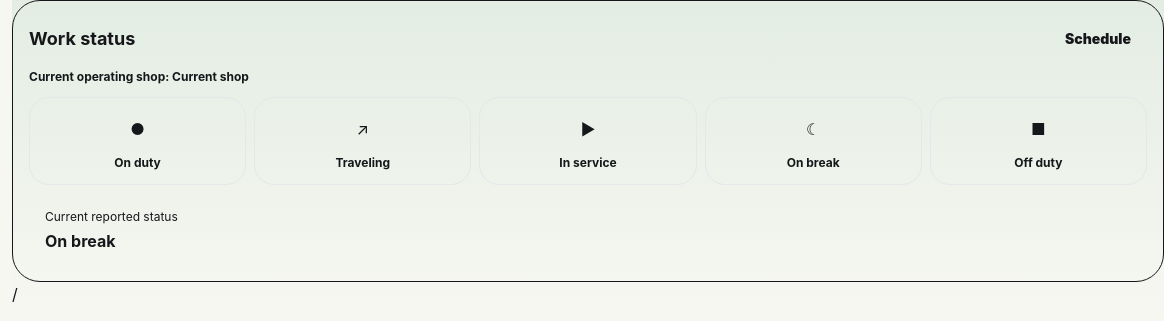
Scenario: work status submission › opens the freshly reported active service even when today's suggested order differs
Click the button "▶ In service" at x=588, y=141, box 479,97 -> 697,185
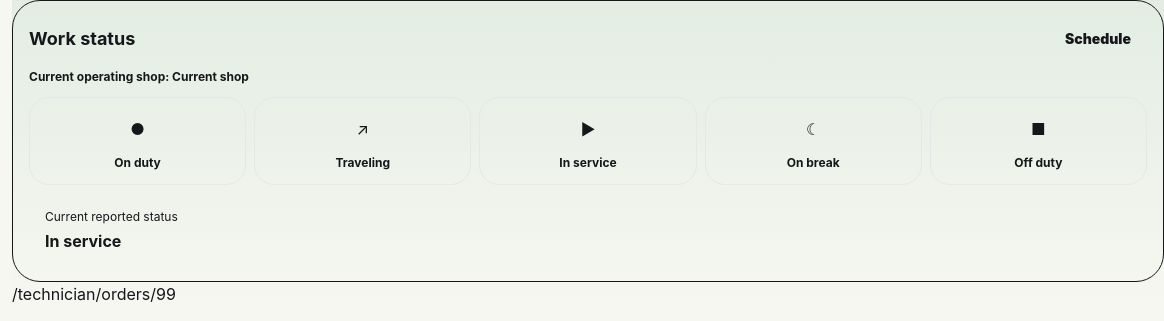
Expected: the text "/technician/orders/99" is shown, 12,284 -> 176,304
